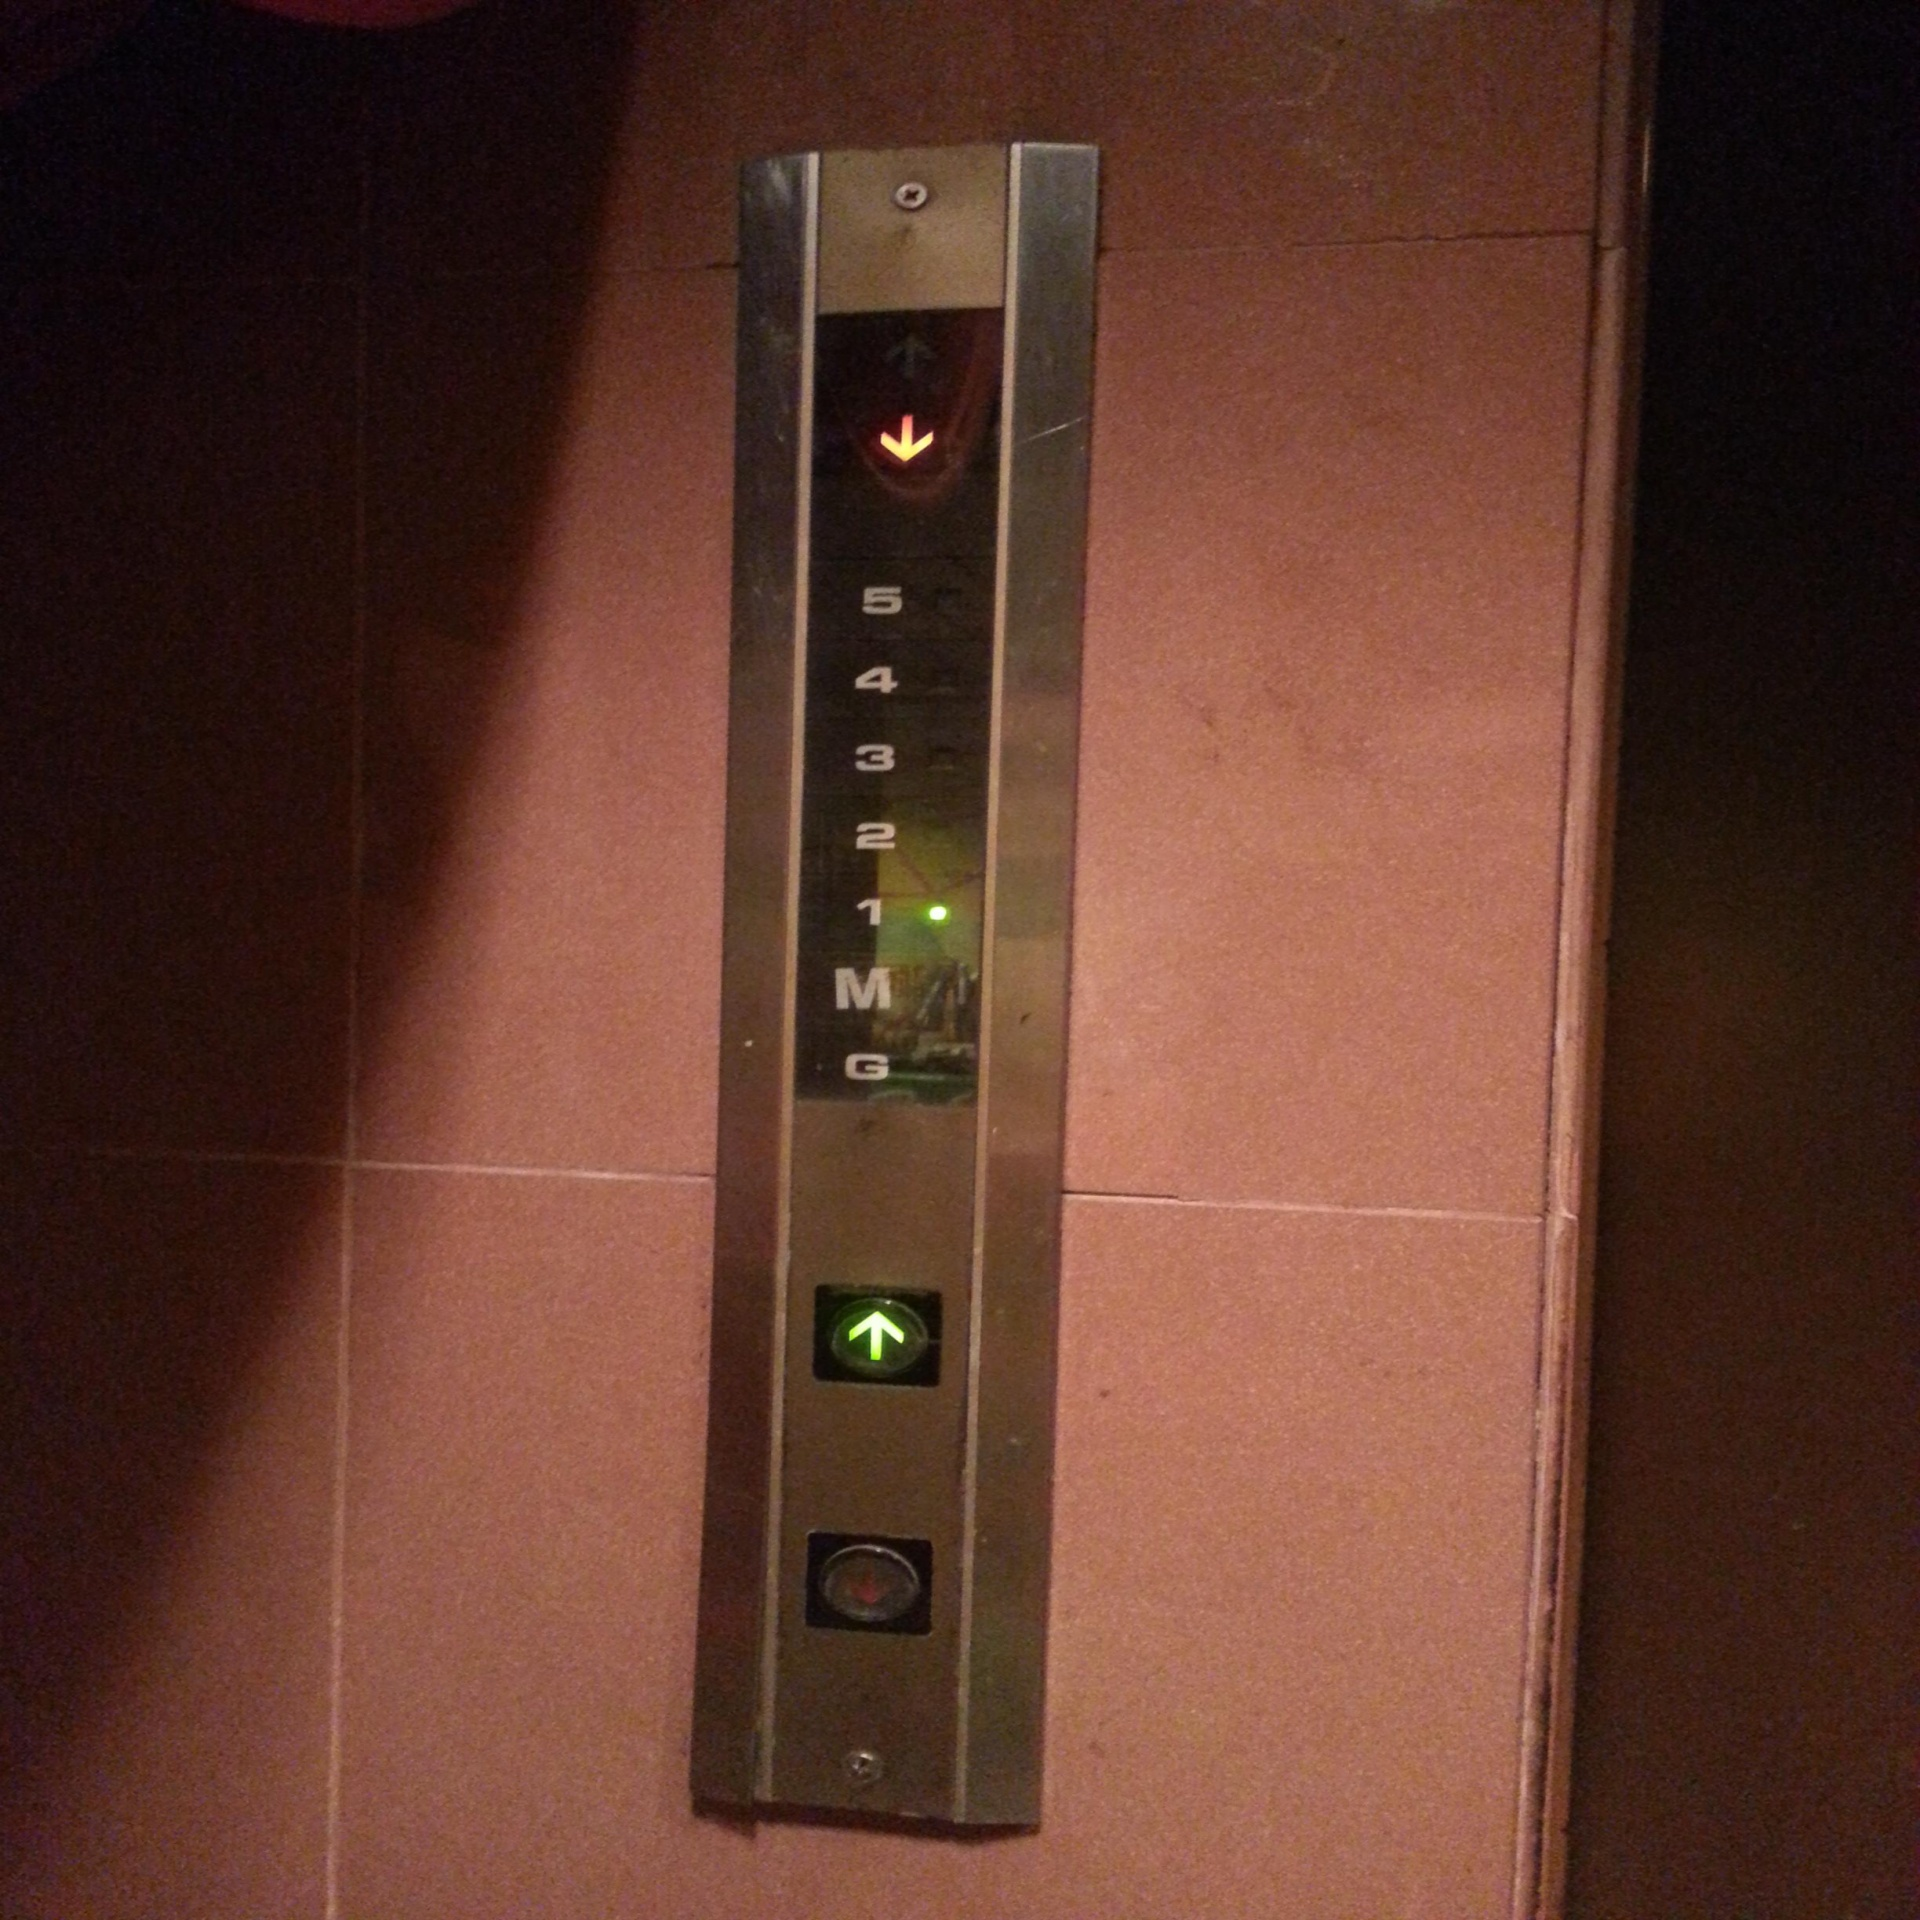down: (798, 1523, 937, 1640)
led: (786, 295, 1013, 1108)
up: (807, 1275, 948, 1398)
